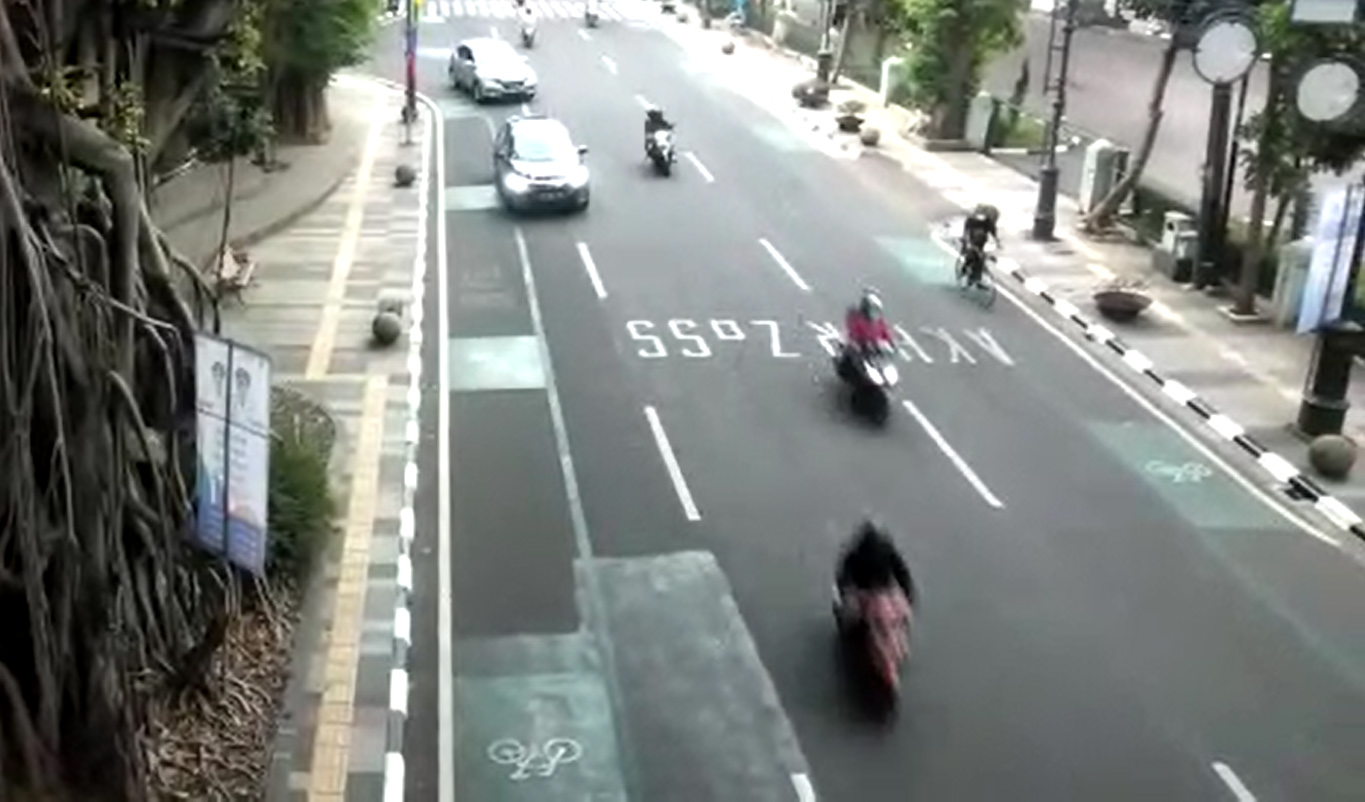mobil: (485, 105, 600, 222), (442, 33, 542, 107)
motor: (819, 498, 936, 742), (823, 274, 916, 441), (634, 99, 687, 183)
